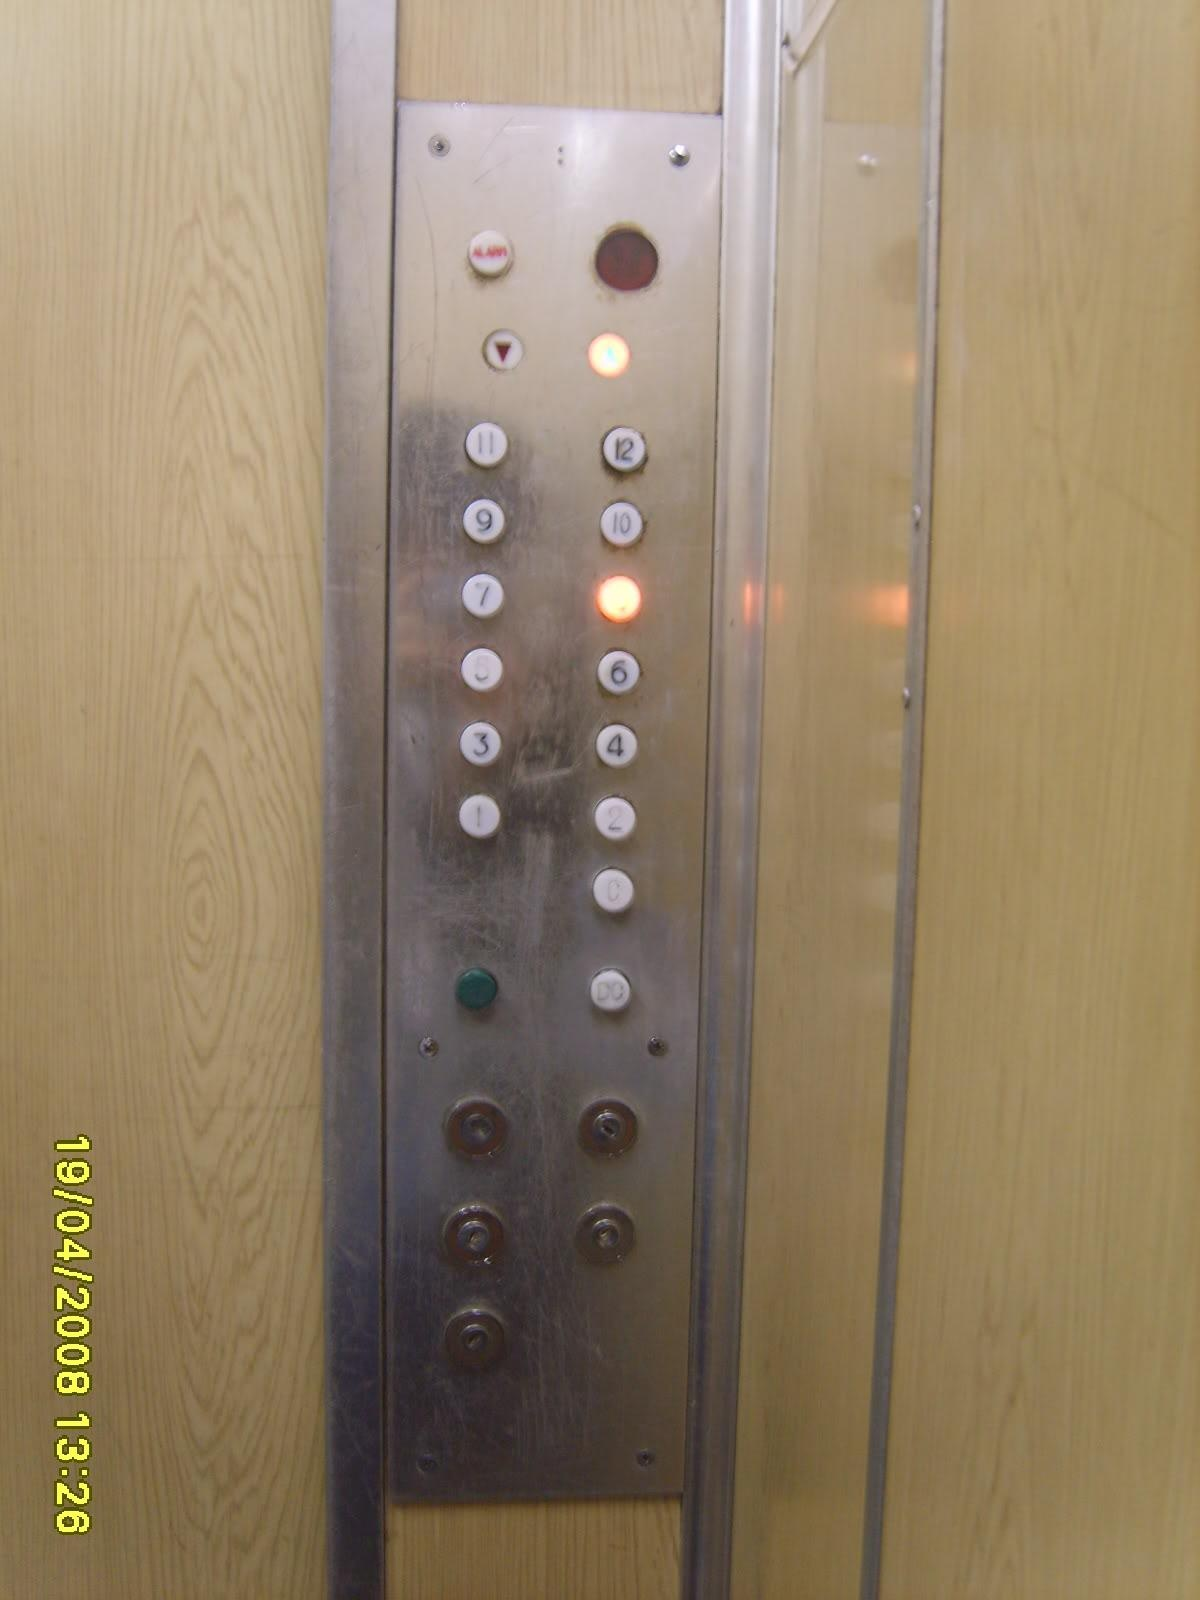0: (587, 863, 640, 917)
1: (455, 787, 503, 842)
10: (597, 499, 648, 551)
11: (460, 420, 513, 472)
12: (597, 421, 652, 479)
2: (587, 791, 638, 843)
3: (455, 716, 508, 772)
4: (591, 718, 643, 771)
5: (456, 641, 508, 695)
6: (592, 645, 648, 698)
7: (458, 571, 511, 624)
9: (461, 496, 509, 546)
DC: (584, 963, 635, 1017)
down: (476, 324, 528, 375)
empty: (587, 220, 663, 299), (592, 571, 647, 627), (454, 966, 502, 1012)
keyhole: (440, 1094, 512, 1167), (439, 1197, 511, 1270), (570, 1198, 642, 1271), (439, 1301, 511, 1374), (575, 1096, 643, 1163)
text_alarm: (463, 227, 517, 283)
up: (584, 328, 633, 380)
